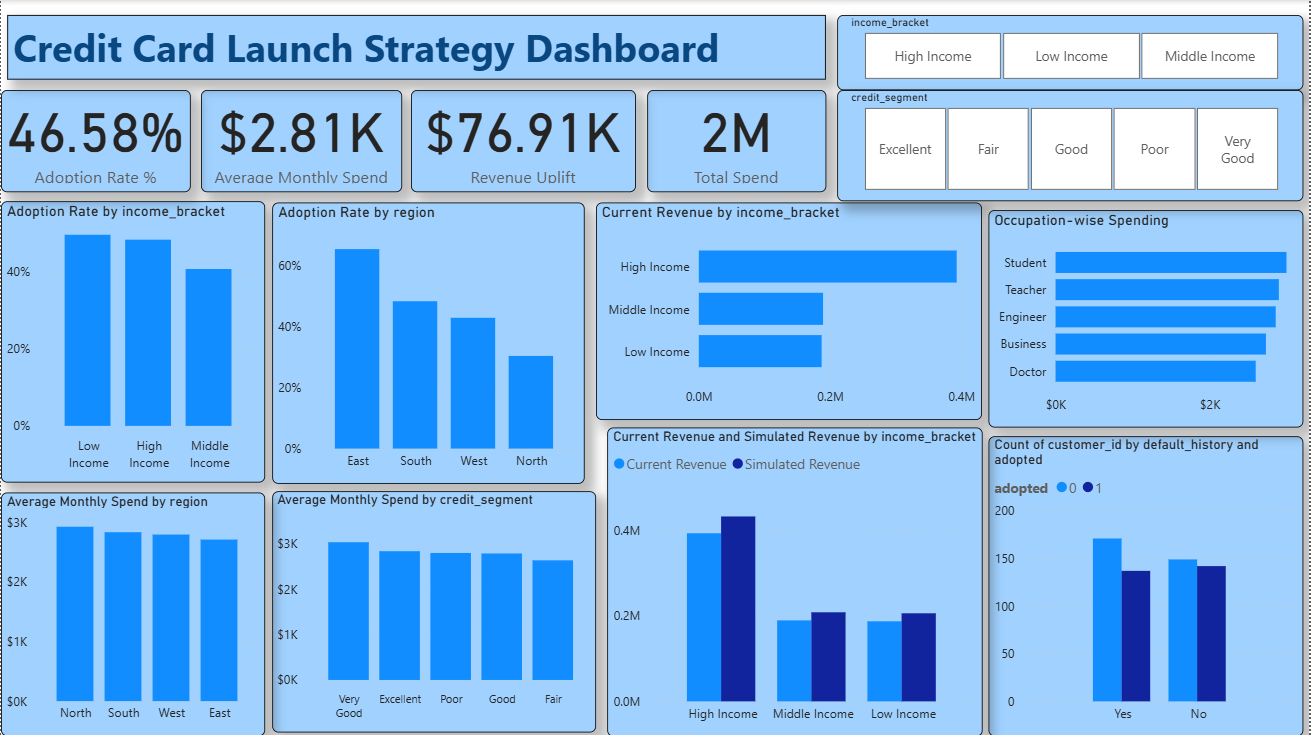

What the dashboard file says about the page in this screenshot:
{"tool":"powerbi","page":{"name":"Page 1","canvas":[1280,720],"ordinal":0},"visuals":[{"type":"card","fields":{"Values":["merged.Average Monthly Spend"]},"box":[195.7,88,196.9,100.3],"z":0},{"type":"card","fields":{"Values":["merged.Total Spend"]},"box":[632.2,88,174.9,100.3],"z":1000},{"type":"columnChart","title":"Adoption Rate by income_bracket","fields":{"Category":["merged.income_bracket"],"Y":["merged.Adoption Rate %"]},"box":[0,196.9,258,275.1],"z":2000},{"type":"card","fields":{"Values":["merged.Adoption Rate %"]},"box":[0,88,185.9,100.3],"z":3000},{"type":"card","fields":{"Values":["merged.Revenue Uplift"]},"box":[401.1,88,220.1,100.3],"z":4000},{"type":"clusteredColumnChart","title":"Adoption Rate by region","fields":{"Category":["merged.region"],"Y":["merged.Adoption Rate %"]},"box":[265.4,198.1,305.7,275.1],"z":5000},{"type":"columnChart","fields":{"Category":["merged.credit_segment"],"Y":["merged.Average Monthly Spend"]},"box":[265.4,480.6,316.7,236],"z":6000},{"type":"columnChart","fields":{"Category":["merged.region"],"Y":["merged.Average Monthly Spend"]},"box":[0,481.8,258,238.5],"z":7000},{"type":"clusteredColumnChart","fields":{"Category":["merged.default_history"],"Series":["merged.adopted"],"Y":["CountNonNull(merged.customer_id)"]},"box":[966,426.8,308.2,293.5],"z":8000},{"type":"clusteredBarChart","fields":{"Category":["merged.income_bracket"],"Y":["merged.Current Revenue"]},"box":[582.1,198.1,377.9,212.8],"z":9000},{"type":"clusteredColumnChart","fields":{"Category":["merged.income_bracket"],"Y":["merged.Current Revenue","merged.Simulated Revenue"]},"box":[593.1,418.2,366.8,302],"z":10000},{"type":"barChart","title":"Occupation-wise Spending","fields":{"Category":["merged.Occupation"],"Y":["merged.Average Monthly Spend"]},"box":[966,205.4,308.2,212.8],"z":11000},{"type":"textbox","box":[6.1,14.7,801,63.6],"z":13000},{"type":"slicer","fields":{"Values":["merged.income_bracket"]},"box":[818.1,14.7,456.1,73.4],"z":14000},{"type":"slicer","fields":{"Values":["merged.credit_segment"]},"box":[818.1,88,456.1,108.8],"z":16000}]}

Visuals, with their boxes in screenshot pixels (x1, y1, x2, y2), scaled from the page's 1280x720 canvas onto the 1311x735 screenshot:
card - merged.Average Monthly Spend: [200, 90, 402, 192]
card - merged.Total Spend: [648, 90, 827, 192]
"Adoption Rate by income_bracket" columnChart: [0, 201, 264, 482]
card - merged.Adoption Rate %: [0, 90, 190, 192]
card - merged.Revenue Uplift: [411, 90, 636, 192]
"Adoption Rate by region" clusteredColumnChart: [272, 202, 585, 483]
columnChart - merged.credit_segment x merged.Average Monthly Spend: [272, 491, 596, 732]
columnChart - merged.region x merged.Average Monthly Spend: [0, 492, 264, 734]
clusteredColumnChart - merged.default_history x merged.adopted: [989, 436, 1305, 734]
clusteredBarChart - merged.income_bracket x merged.Current Revenue: [596, 202, 983, 419]
clusteredColumnChart - merged.income_bracket x merged.Current Revenue: [607, 427, 983, 734]
"Occupation-wise Spending" barChart: [989, 210, 1305, 427]
textbox: [6, 15, 827, 80]
slicer - merged.income_bracket: [838, 15, 1305, 90]
slicer - merged.credit_segment: [838, 90, 1305, 201]
